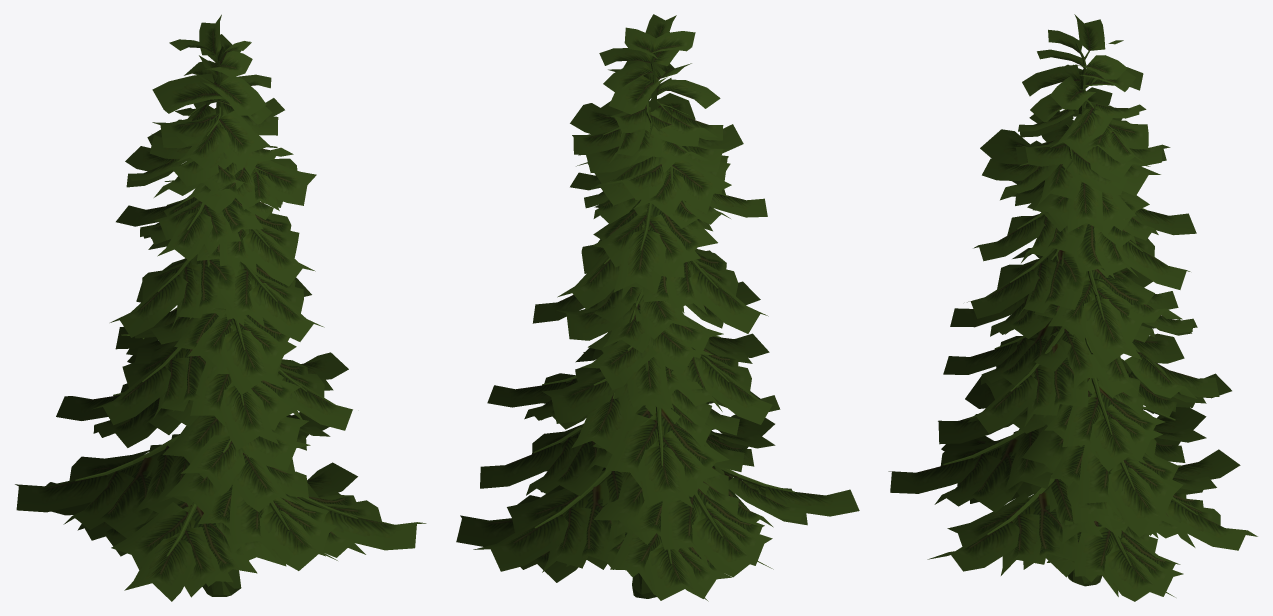
Rendered from alp_Env_Pine_05.glb.
The picture shows the model from 3 angles, left to right: view 1: azimuth 30°, elevation 25°; view 2: azimuth 150°, elevation 25°; view 3: azimuth 270°, elevation 25°; orthographic projection. The views are drawn at different scales.
Visible parts, largest first — view 1: SM_Env_Pine_05_LOD0; view 2: SM_Env_Pine_05_LOD0; view 3: SM_Env_Pine_05_LOD0.
Boxes of the visible parts, x1,y1,x2,y2 form: SM_Env_Pine_05_LOD0: [15, 14, 426, 601]; SM_Env_Pine_05_LOD0: [456, 14, 859, 601]; SM_Env_Pine_05_LOD0: [888, 14, 1257, 601].
Size of the model in its own units: 3.64 by 6.06 by 3.66.
Materials: 1 (1 with a texture image).
